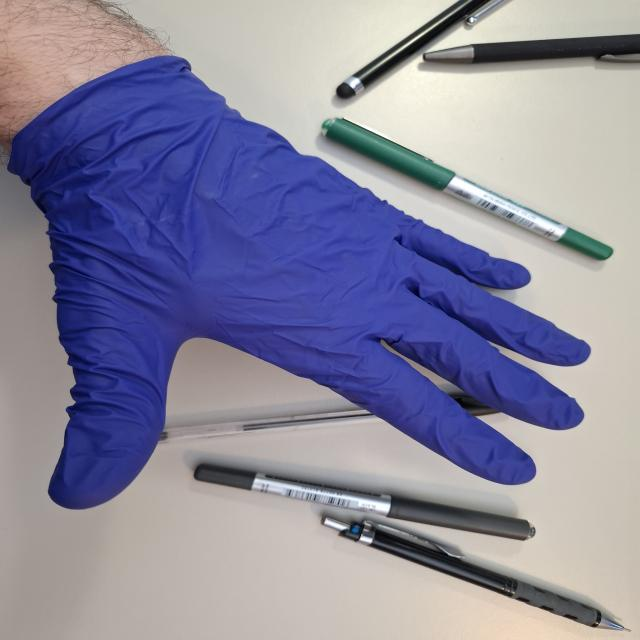glove_on: (6, 50, 591, 507)
